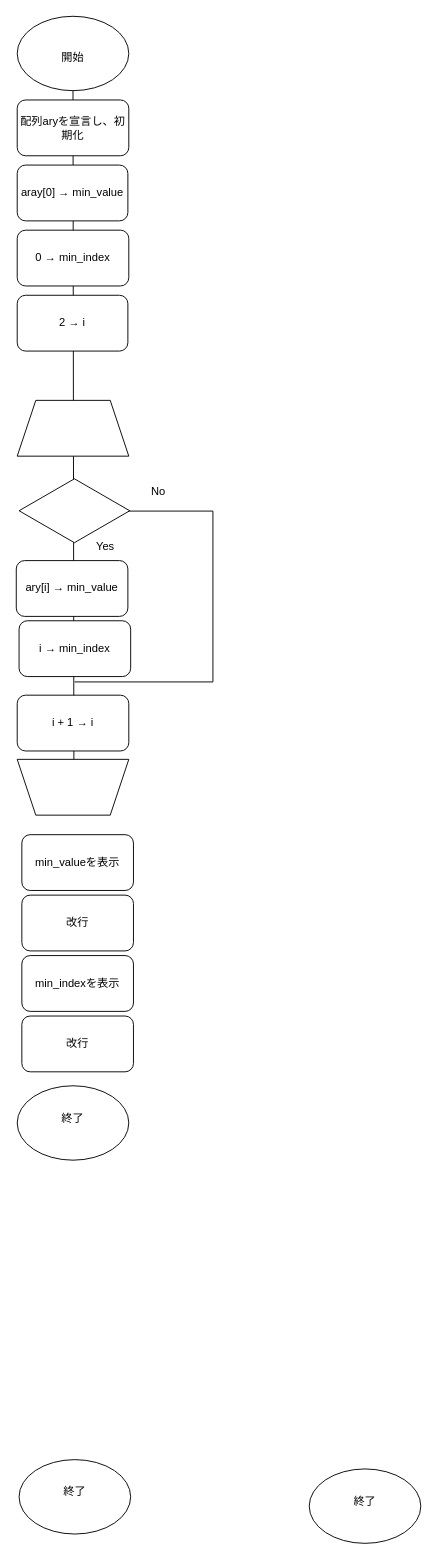
Image size: 437x1560. Some labels were removed from this diagram. Each missing label, with the centre of its shape:
ary[i] < min_value: [74,510]
探索 ループ 終了: [72,786]
探索ループ開始 i > len(array): [72,427]
